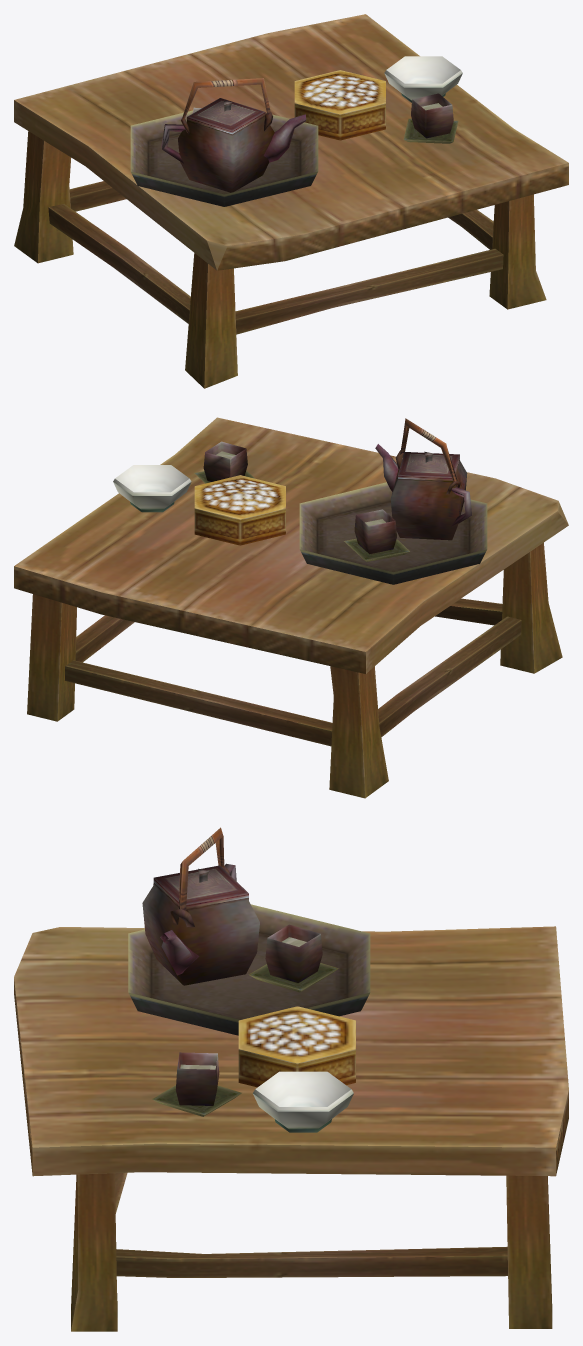
Rendered from zhuo_zi_003.FBX.
The picture shows the model from 3 angles, top to bottom: view 1: azimuth 30°, elevation 25°; view 2: azimuth 150°, elevation 25°; view 3: azimuth 270°, elevation 25°; orthographic projection. The views are drawn at different scales.
Visible parts, largest first — view 1: zhuo_zi_003_a, zhuo_zi_003_b, zhuo_zi_003_c, zhuo_zi_003_d, zhuo_zi_003_e; view 2: zhuo_zi_003_a, zhuo_zi_003_b, zhuo_zi_003_c, zhuo_zi_003_d, zhuo_zi_003_e; view 3: zhuo_zi_003_a, zhuo_zi_003_b, zhuo_zi_003_c, zhuo_zi_003_d, zhuo_zi_003_e.
Boxes of the visible parts, x1=… form: zhuo_zi_003_a: x1=14, y1=14, x2=568, y2=388; zhuo_zi_003_b: x1=130, y1=78, x2=318, y2=206; zhuo_zi_003_c: x1=294, y1=70, x2=385, y2=140; zhuo_zi_003_d: x1=384, y1=56, x2=462, y2=102; zhuo_zi_003_e: x1=403, y1=93, x2=458, y2=143; zhuo_zi_003_a: x1=14, y1=417, x2=568, y2=798; zhuo_zi_003_b: x1=299, y1=418, x2=487, y2=584; zhuo_zi_003_c: x1=194, y1=475, x2=285, y2=545; zhuo_zi_003_d: x1=113, y1=465, x2=191, y2=512; zhuo_zi_003_e: x1=194, y1=441, x2=254, y2=483; zhuo_zi_003_a: x1=14, y1=926, x2=568, y2=1331; zhuo_zi_003_b: x1=128, y1=827, x2=370, y2=1035; zhuo_zi_003_c: x1=238, y1=1006, x2=355, y2=1087; zhuo_zi_003_d: x1=252, y1=1071, x2=353, y2=1132; zhuo_zi_003_e: x1=152, y1=1052, x2=241, y2=1116.
Size of the model in its own units: 154 by 103 by 162.
1 material, 1 textured.
